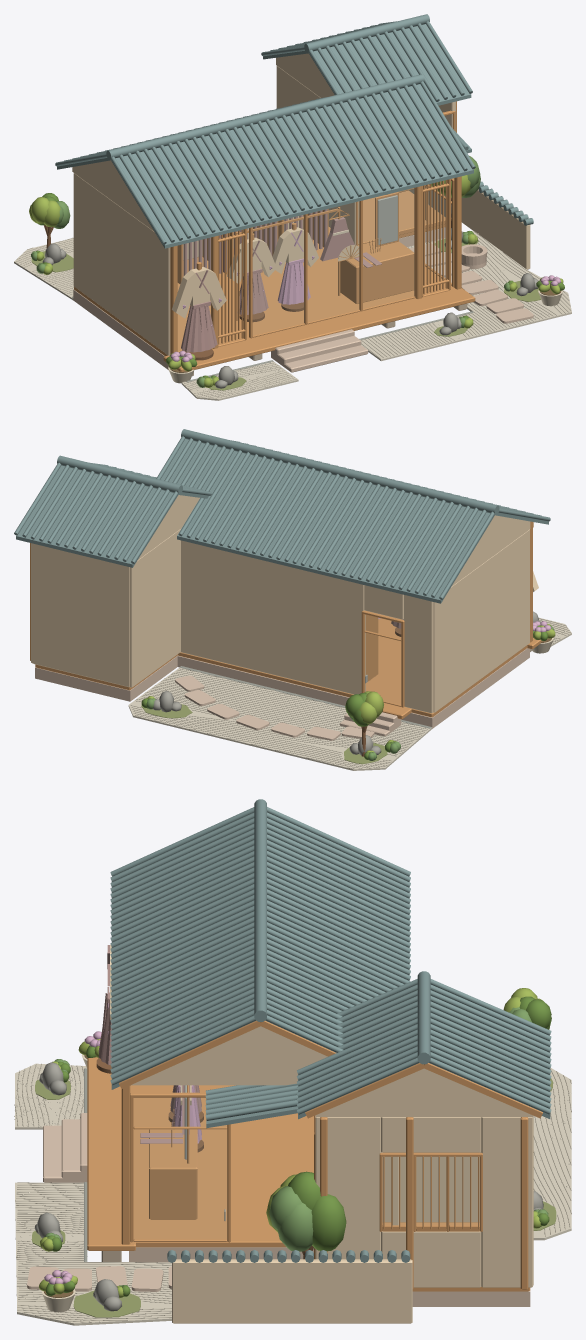
The picture shows the model from 3 angles, top to bottom: view 1: azimuth 30°, elevation 25°; view 2: azimuth 150°, elevation 25°; view 3: azimuth 270°, elevation 25°; orthographic projection. The views are drawn at different scales.
Visible parts, largest first — view 1: R 筒瓦, R 连续瓦屋面, A 西墙, S 主厅木地板, L 前庭东砾石砾石基面, S 前木廊, R 屋脊, I 宽袖汉服, A 滑屏细木条, I 镜前配饰柜, L 侧院矮墙, A 前廊木柱 (+28 smaller); view 2: R 筒瓦, A 主厅后墙段, R 连续瓦屋面, A 后翼后墙, A 西墙, L 后庭砾石砾石基面, L 后庭砾石曲线耙纹, A 后翼西墙, S 建筑足迹低石基, R 屋脊, S 主厅木地板, L 后庭行走踏石 (+12 smaller); view 3: R 筒瓦, S 主厅木地板, L 侧院矮墙, A 后翼东墙段, A 木框山墙填板, L 前庭东砾石砾石基面, S 前木廊, L 乔木 · 枝干与树冠, L 前庭东砾石曲线耙纹, A 后翼西墙, L 后庭砾石砾石基面, A 后翼窗下 (+25 smaller).
Boxes of the visible parts, left/top/right/bottom form: R 筒瓦: left=55, top=21, right=475, bottom=244; R 连续瓦屋面: left=57, top=24, right=473, bottom=248; A 西墙: left=73, top=173, right=170, bottom=355; S 主厅木地板: left=74, top=218, right=453, bottom=356; L 前庭东砾石砾石基面: left=361, top=231, right=571, bottom=361; S 前木廊: left=163, top=287, right=475, bottom=371; R 屋脊: left=106, top=14, right=429, bottom=159; I 宽袖汉服: left=172, top=227, right=318, bottom=318; A 滑屏细木条: left=218, top=180, right=447, bottom=344; I 镜前配饰柜: left=340, top=241, right=414, bottom=303; L 侧院矮墙: left=461, top=189, right=530, bottom=269; A 前廊木柱: left=170, top=176, right=461, bottom=354; R 筒瓦: left=14, top=436, right=550, bottom=599; A 主厅后墙段: left=181, top=540, right=433, bottom=713; R 连续瓦屋面: left=16, top=439, right=548, bottom=603; A 后翼后墙: left=33, top=543, right=129, bottom=687; A 西墙: left=433, top=529, right=529, bottom=712; L 后庭砾石砾石基面: left=128, top=667, right=432, bottom=770; L 后庭砾石曲线耙纹: left=130, top=668, right=427, bottom=768; A 后翼西墙: left=129, top=529, right=180, bottom=687; S 建筑足迹低石基: left=35, top=648, right=529, bottom=728; R 屋脊: left=57, top=429, right=499, bottom=514; S 主厅木地板: left=178, top=618, right=527, bottom=717; L 后庭行走踏石: left=175, top=675, right=374, bottom=740; R 筒瓦: left=110, top=807, right=551, bottom=1114; S 主厅木地板: left=130, top=1085, right=391, bottom=1247; L 侧院矮墙: left=172, top=1259, right=412, bottom=1323; A 后翼东墙段: left=315, top=1117, right=532, bottom=1287; A 木框山墙填板: left=131, top=1026, right=530, bottom=1114; L 前庭东砾石砾石基面: left=15, top=1182, right=171, bottom=1325; S 前木廊: left=87, top=1057, right=135, bottom=1250; L 乔木 · 枝干与树冠: left=266, top=988, right=551, bottom=1259; L 前庭东砾石曲线耙纹: left=15, top=1182, right=171, bottom=1322; A 后翼西墙: left=381, top=1152, right=481, bottom=1222; L 后庭砾石砾石基面: left=533, top=1068, right=571, bottom=1240; A 后翼窗下: left=381, top=1231, right=481, bottom=1287.
Size of the model in its own units: 21.82 by 10.14 by 19.47.
